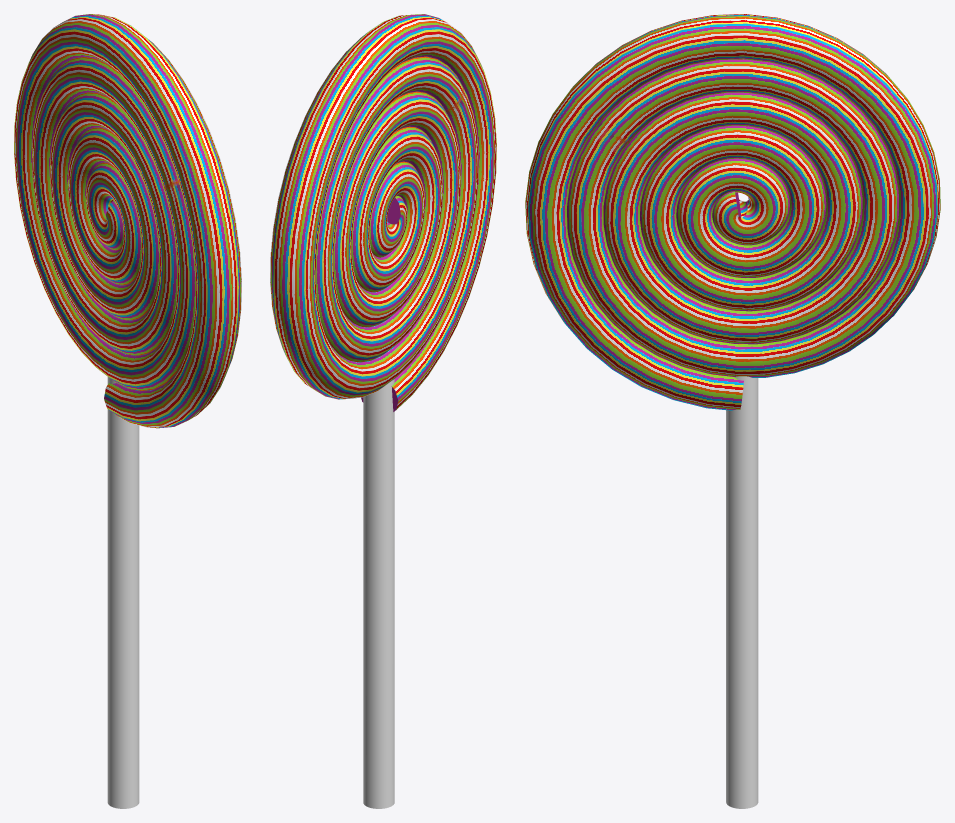
File: Swirl Lollipop.FBX
3 renders of one model, left to right at view 1: azimuth 30°, elevation 25°; view 2: azimuth 150°, elevation 25°; view 3: azimuth 270°, elevation 25°, orthographic.
Visible parts, largest first — view 1: Helix001, Cylinder001; view 2: Helix001, Cylinder001; view 3: Helix001, Cylinder001.
Boxes of the visible parts, x1,y1,x2,y2 form: Helix001: [14, 14, 241, 428]; Cylinder001: [107, 377, 139, 808]; Helix001: [270, 14, 496, 411]; Cylinder001: [363, 379, 394, 808]; Helix001: [525, 14, 940, 410]; Cylinder001: [726, 376, 758, 808].
Size of the model in its own units: 1.46 by 26.92 by 12.9.
2 materials, 1 textured.
